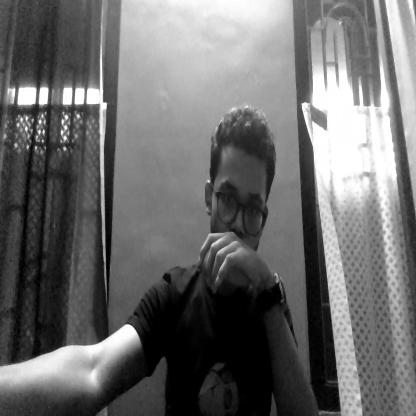Normal: (210, 122, 271, 288)
